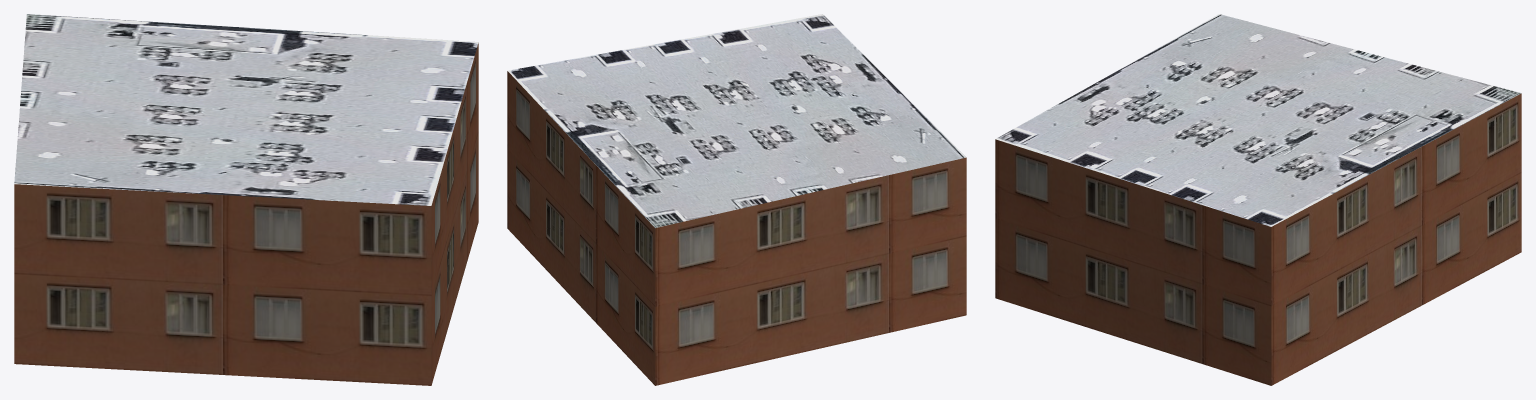
Rendered from ResTex__1913.fbx.
The picture shows the model from 3 angles, left to right: view 1: azimuth 30°, elevation 25°; view 2: azimuth 150°, elevation 25°; view 3: azimuth 270°, elevation 25°; orthographic projection. The views are drawn at different scales.
Visible parts, largest first — view 1: CityEngineMaterial_20_m, CityEngineMaterial_m; view 2: CityEngineMaterial_20_m, CityEngineMaterial_m; view 3: CityEngineMaterial_20_m, CityEngineMaterial_m.
Boxes of the visible parts, <box> form: CityEngineMaterial_20_m: <box>14,43,478,385</box>; CityEngineMaterial_m: <box>14,14,478,205</box>; CityEngineMaterial_20_m: <box>507,71,966,385</box>; CityEngineMaterial_m: <box>507,14,966,227</box>; CityEngineMaterial_20_m: <box>995,93,1521,385</box>; CityEngineMaterial_m: <box>995,14,1521,226</box>.
Bounding box in the file's own units: 17.24 × 6 × 18.01.
Materials: 2 (2 with a texture image).
